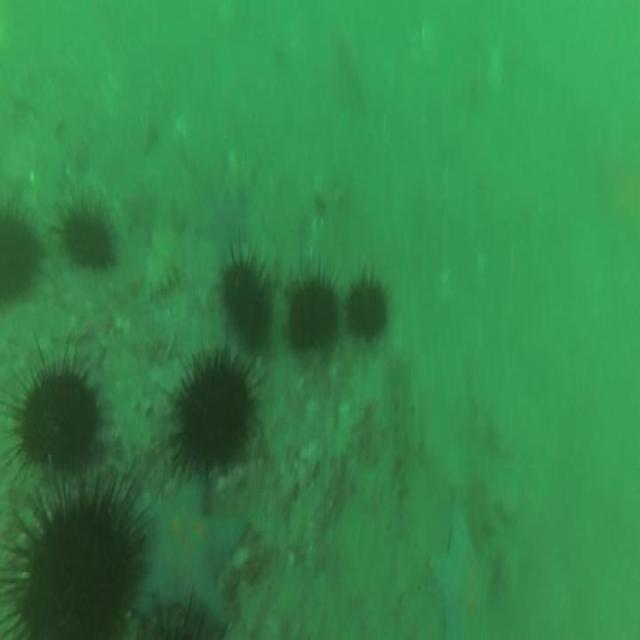echinus: (14, 493, 142, 640), (16, 368, 100, 469), (178, 359, 252, 466), (216, 262, 268, 354), (286, 275, 337, 352), (64, 210, 114, 272), (2, 215, 36, 306), (347, 276, 388, 343)
holothurian: (147, 217, 180, 284)
starfish: (132, 466, 242, 621), (434, 502, 496, 640), (199, 188, 250, 258)
